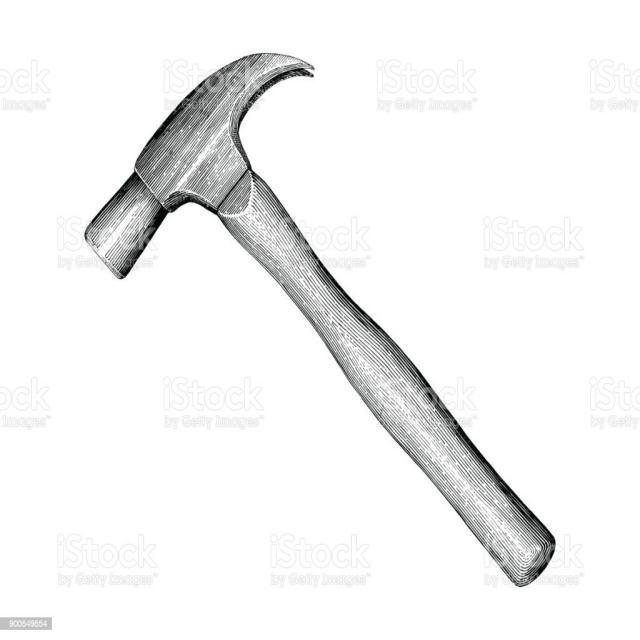hammer: (78, 43, 560, 592)
